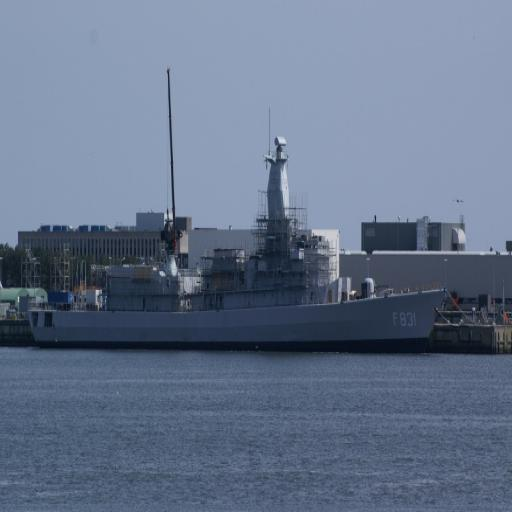Fragata: (28, 130, 453, 358)
